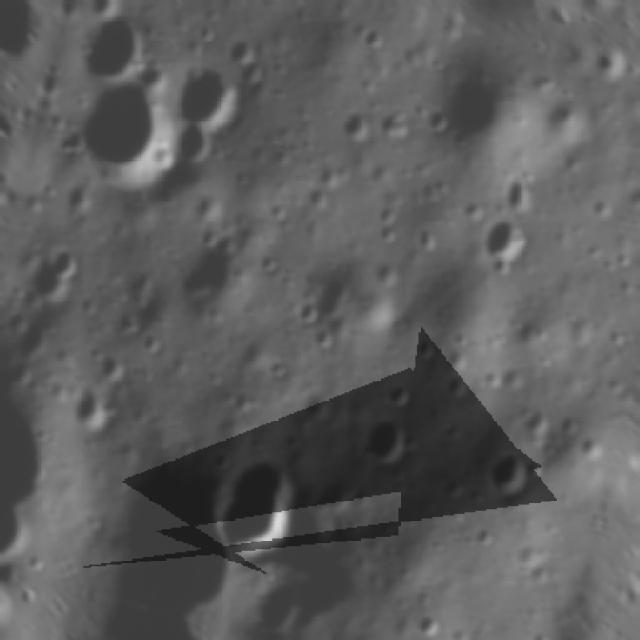crater: (87, 452, 256, 626), (412, 35, 536, 171), (211, 438, 320, 574), (72, 68, 190, 188), (161, 209, 261, 322), (72, 0, 176, 97), (164, 54, 248, 140), (26, 229, 102, 313), (465, 198, 541, 276), (302, 252, 367, 330), (473, 439, 547, 506), (355, 402, 428, 468), (534, 88, 595, 149), (60, 374, 115, 440), (92, 341, 134, 390), (404, 601, 444, 640), (579, 54, 630, 84), (290, 0, 330, 6)
